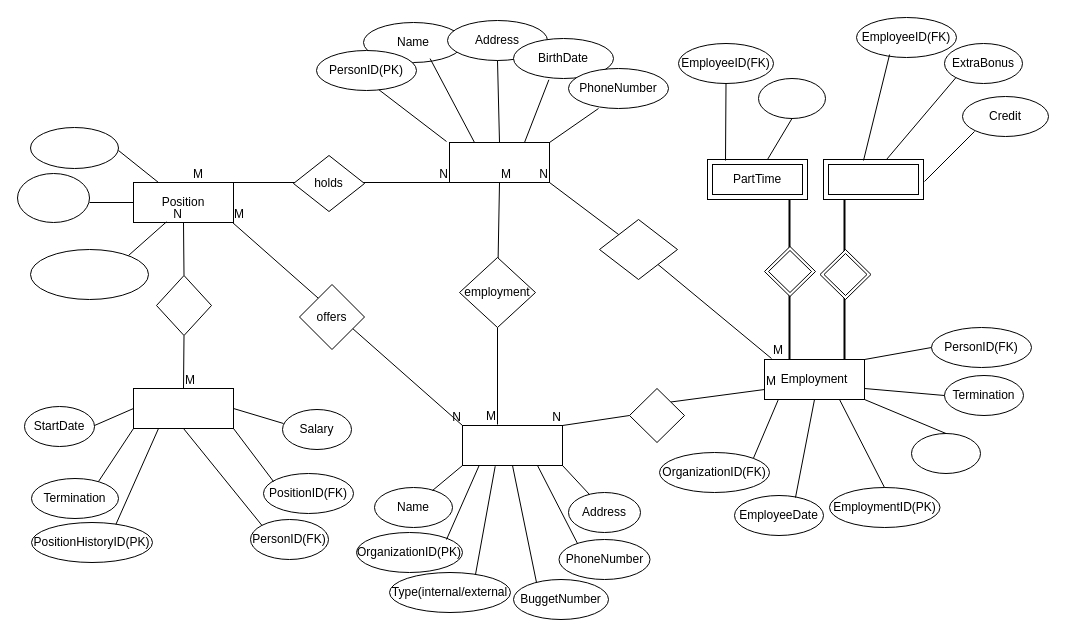
Some shapes in this 1066 by 637 pixel diagram are drawn without their labels. The centre of each missing label's shape, as x and y in pixels:
"Bonus" goes at (x=945, y=453).
"ExtraHours" goes at (x=792, y=98).
"held" goes at (x=184, y=305).
"Organization" goes at (x=512, y=445).
"OrganizationalID(FK)" goes at (x=89, y=274).
"Permanent" goes at (x=873, y=179).
"Person" goes at (x=499, y=162).
"PositionHistory" goes at (x=183, y=408).
"PositionID(PK)" goes at (x=74, y=147).
"Title" goes at (x=53, y=197).
"worksAss" goes at (x=638, y=249).
"worksfor" goes at (x=656, y=415).
